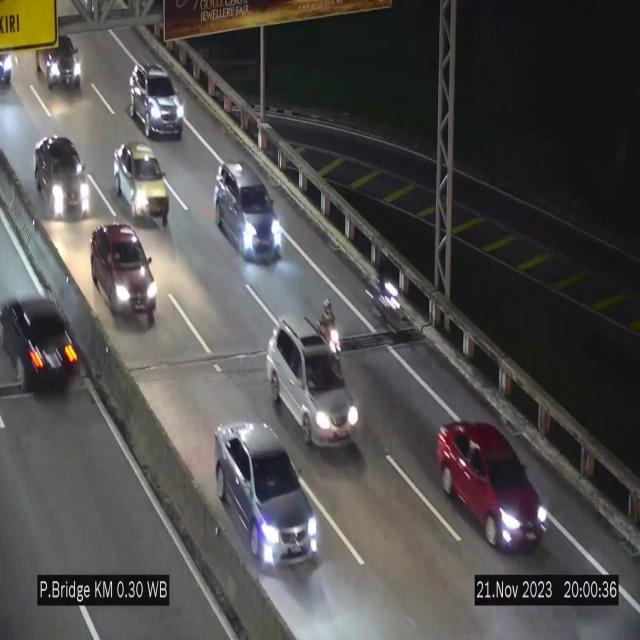Car: (214, 420, 319, 568), (436, 421, 550, 551), (266, 325, 360, 447), (0, 266, 82, 404), (90, 218, 162, 330), (214, 162, 284, 260), (34, 15, 96, 101), (113, 143, 169, 227), (34, 137, 91, 219), (129, 63, 185, 139)
Motorcycle: (372, 260, 404, 340), (319, 298, 342, 358)
